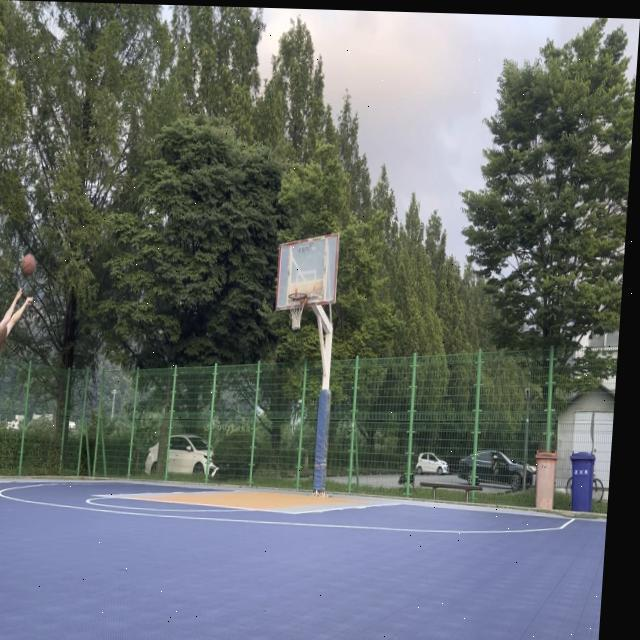Basketball: (21, 252, 37, 274)
